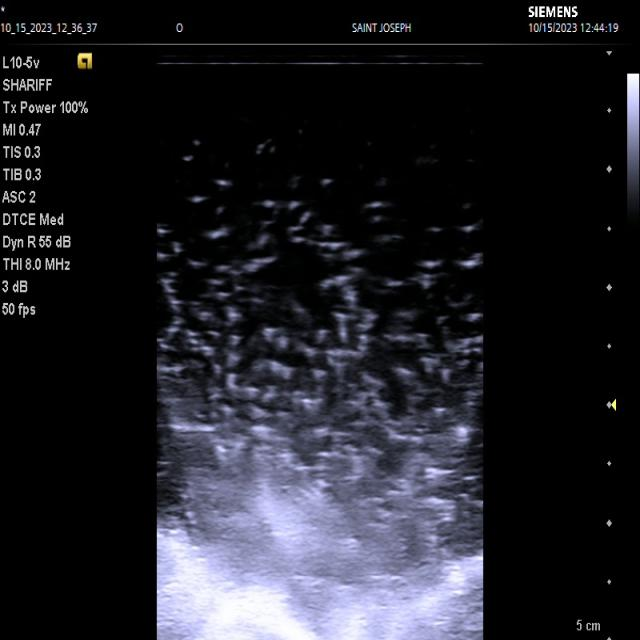tissue: (158, 537, 483, 640)
